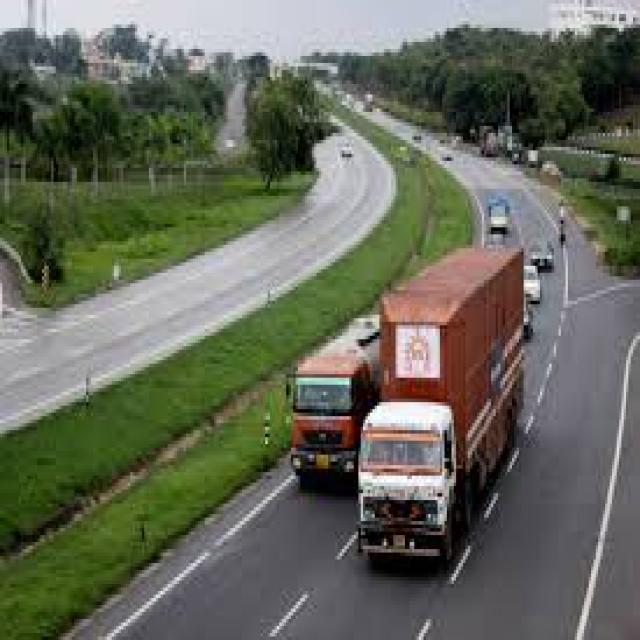Vehicles: (368, 276, 556, 576), (266, 285, 395, 490)
